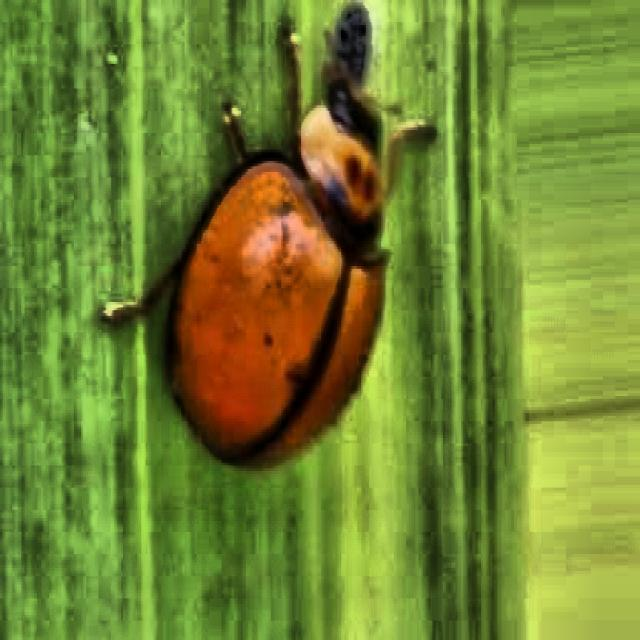Ladybug: (91, 7, 451, 509)
